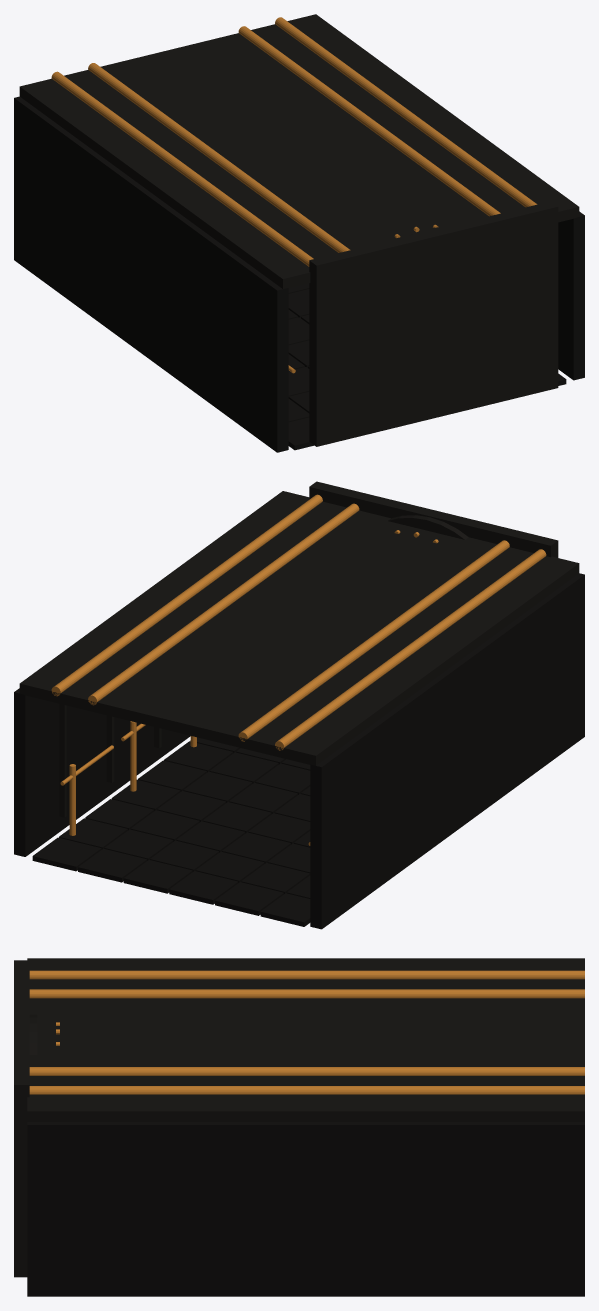
File: HF_CorridorDoor_LookdevBlockout.obj
The picture shows the model from 3 angles, top to bottom: view 1: azimuth 30°, elevation 25°; view 2: azimuth 150°, elevation 25°; view 3: azimuth 270°, elevation 25°; orthographic projection. The views are drawn at different scales.
Parts seen in each view (by area): view 1: ceiling_blackened_plate, pressure_gate_backplate, left_oil_masonry_wall, right_oil_masonry_wall, overhead_brass_pipe_-2.45, overhead_brass_pipe_2.45, overhead_brass_pipe_1.65, overhead_brass_pipe_-1.65, floor_oil_slab_0_9; view 2: ceiling_blackened_plate, left_oil_masonry_wall, right_oil_masonry_wall, pressure_gate_backplate, overhead_brass_pipe_1.65, overhead_brass_pipe_2.45, overhead_brass_pipe_-2.45, overhead_brass_pipe_-1.65, floor_oil_slab_3_0, floor_oil_slab_5_0, floor_oil_slab_2_0, floor_oil_slab_4_0 (+25 smaller); view 3: right_oil_masonry_wall, ceiling_blackened_plate, overhead_brass_pipe_-1.65, overhead_brass_pipe_-2.45, overhead_brass_pipe_1.65, overhead_brass_pipe_2.45, pressure_gate_backplate.
Part boxes in pixels (x1,y1,x2,y2): ceiling_blackened_plate: (19,14,579,288); pressure_gate_backplate: (309,201,558,446); left_oil_masonry_wall: (14,96,288,452); right_oil_masonry_wall: (558,211,584,380); overhead_brass_pipe_-2.45: (51,71,313,266); overhead_brass_pipe_2.45: (275,17,537,207); overhead_brass_pipe_1.65: (238,26,500,216); overhead_brass_pipe_-1.65: (88,63,350,252); floor_oil_slab_0_9: (288,417,314,450); ceiling_blackened_plate: (19,491,579,765); left_oil_masonry_wall: (310,573,584,929); right_oil_masonry_wall: (14,688,190,856); pressure_gate_backplate: (309,481,558,557); overhead_brass_pipe_1.65: (88,503,359,705); overhead_brass_pipe_2.45: (51,494,322,696); overhead_brass_pipe_-2.45: (275,549,546,750); overhead_brass_pipe_-1.65: (238,540,509,741); floor_oil_slab_3_0: (123,860,192,893); floor_oil_slab_5_0: (32,837,101,871); floor_oil_slab_2_0: (169,871,238,904); floor_oil_slab_4_0: (78,848,147,882); right_oil_masonry_wall: (27,1122,584,1296); ceiling_blackened_plate: (27,958,584,1121); overhead_brass_pipe_-1.65: (29,989,584,998); overhead_brass_pipe_-2.45: (29,970,584,979); overhead_brass_pipe_1.65: (29,1067,584,1075); overhead_brass_pipe_2.45: (29,1086,584,1094); pressure_gate_backplate: (14,960,29,1277).
Size of the model in its own units: 6.75 by 3.9 by 10.24.
